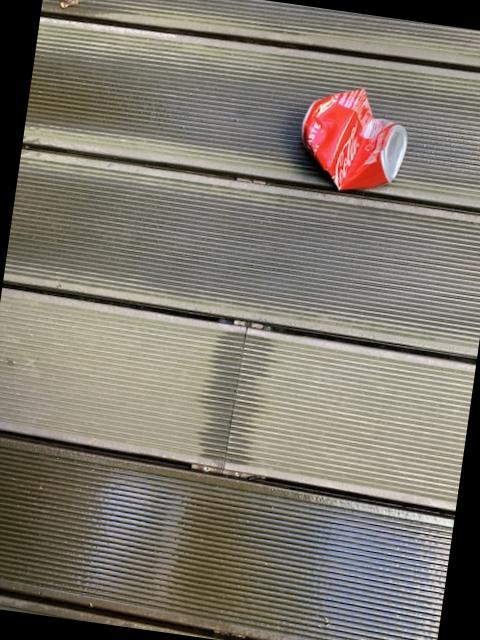metal: (301, 88, 406, 188)
